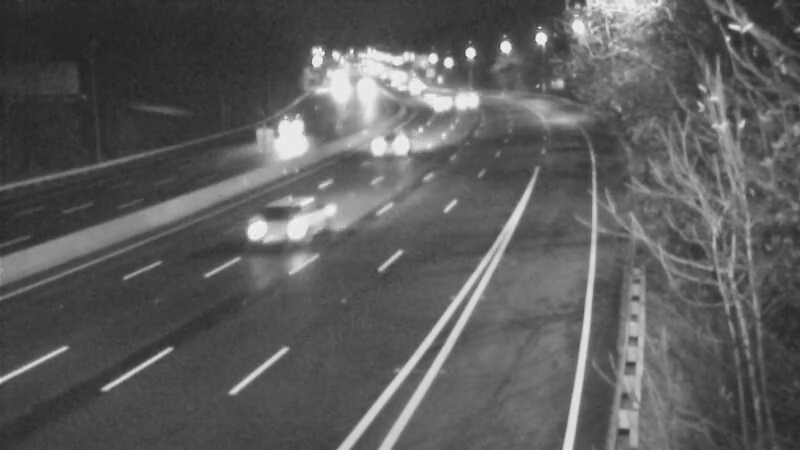vehicle: (243, 184, 323, 264), (445, 76, 495, 126), (419, 76, 469, 126), (364, 116, 414, 166), (267, 101, 317, 151)
